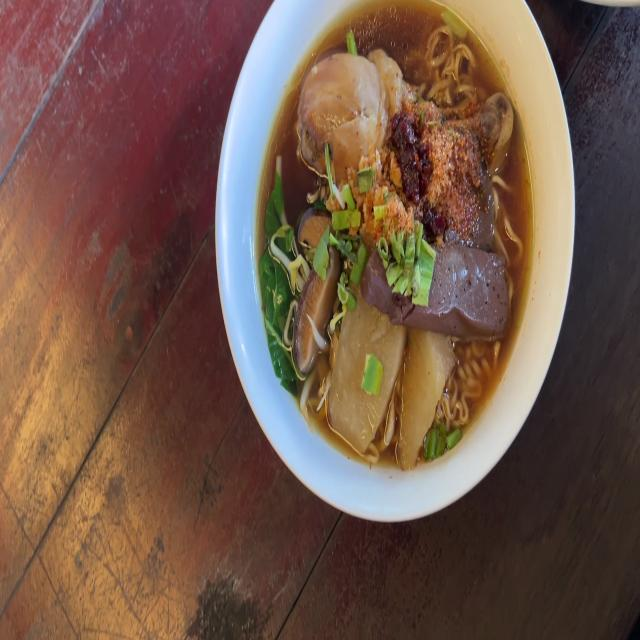boiled_chicken_blood_jelly: (436, 245, 508, 339), (364, 255, 394, 311), (480, 159, 495, 252)
chicken_drumstick: (296, 48, 512, 176)
daikon_radish: (328, 332, 452, 453)
noodle: (285, 26, 503, 426)
